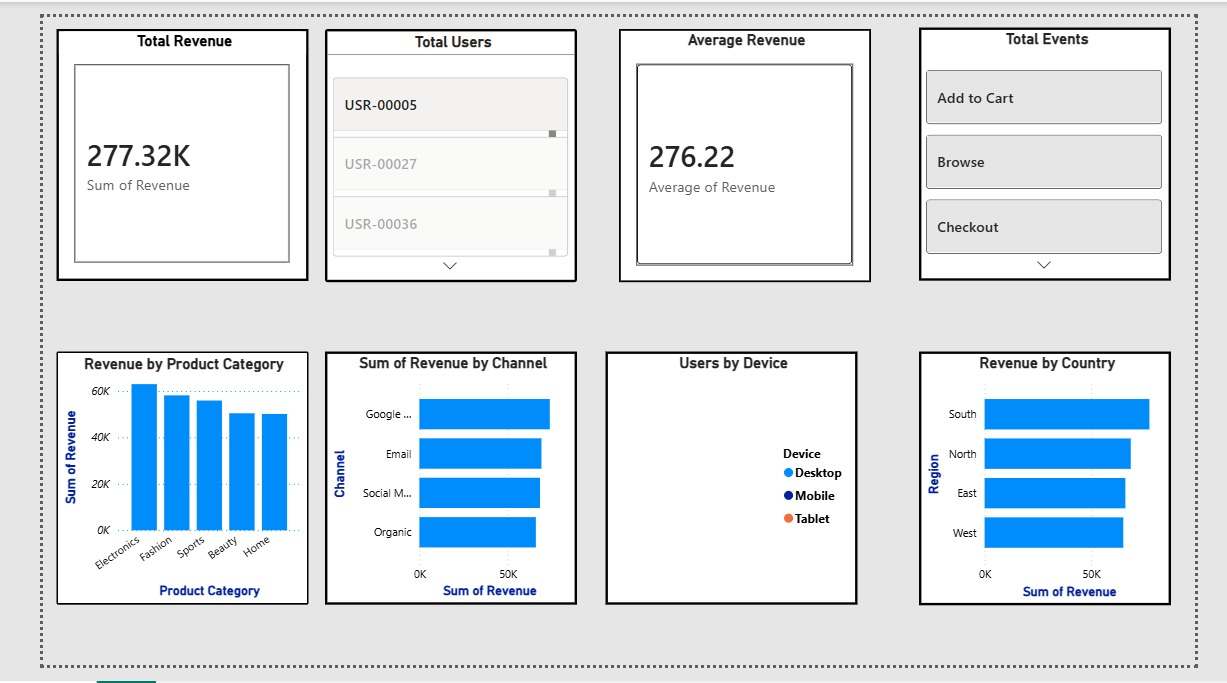

What the dashboard file says about the page in this screenshot:
{"tool":"powerbi","page":{"name":"Page 1","canvas":[1280,720],"ordinal":0},"visuals":[{"type":"cardVisual","title":"Total Revenue","fields":{"Data":["Sum(client_site_dataset.Revenue)","Sum(client_site_dataset.Revenue)"]},"box":[15.1,13.2,279.7,279.7],"z":0},{"type":"cardVisual","title":"Total Users","fields":{"Rows":["client_site_dataset.User ID"]},"box":[313.7,13.2,279.7,281.6],"z":1000},{"type":"cardVisual","title":"Average Revenue","fields":{"Data":["Avg(client_site_dataset.Revenue)"]},"box":[640.6,13.2,279.7,281.6],"z":2000},{"type":"cardVisual","title":"Total Events","fields":{"Rows":["client_site_dataset.Event"]},"box":[973.2,11.3,279.7,281.6],"z":2001},{"type":"clusteredColumnChart","title":"Revenue by Product Category","fields":{"Category":["client_site_dataset.Product Category"],"Y":["Sum(client_site_dataset.Revenue)"]},"box":[15.1,372.3,279.7,281.6],"z":2002},{"type":"clusteredBarChart","fields":{"Category":["client_site_dataset.Channel"],"Y":["Sum(client_site_dataset.Revenue)"]},"box":[313.7,372.3,279.7,281.6],"z":2003},{"type":"donutChart","title":"Users by Device","fields":{"Category":["client_site_dataset.Device"],"Series":["client_site_dataset.User ID"]},"box":[625.5,372.3,279.7,281.6],"z":2004},{"type":"clusteredBarChart","title":"Revenue by Country","fields":{"Category":["client_site_dataset.Region"],"Y":["Sum(client_site_dataset.Revenue)"]},"box":[973,372,280,282],"z":2005}]}

Visuals, with their boxes in screenshot pixels (x1, y1, x2, y2), scaled from the page's 1280x720 canvas onto the 1227x683 screenshot:
"Total Revenue" cardVisual: locate(14, 13, 283, 278)
"Total Users" cardVisual: locate(301, 13, 569, 280)
"Average Revenue" cardVisual: locate(614, 13, 882, 280)
"Total Events" cardVisual: locate(933, 11, 1201, 278)
"Revenue by Product Category" clusteredColumnChart: locate(14, 353, 283, 620)
clusteredBarChart - client_site_dataset.Channel x Sum(client_site_dataset.Revenue): locate(301, 353, 569, 620)
"Users by Device" donutChart: locate(600, 353, 868, 620)
"Revenue by Country" clusteredBarChart: locate(933, 353, 1201, 620)
